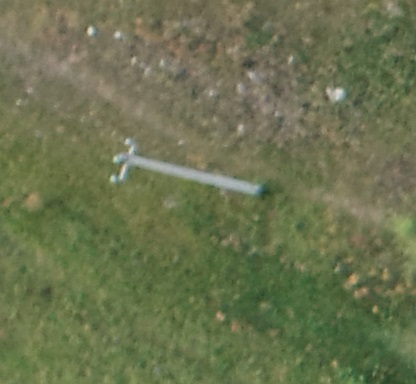opora: (105, 137, 262, 196)
